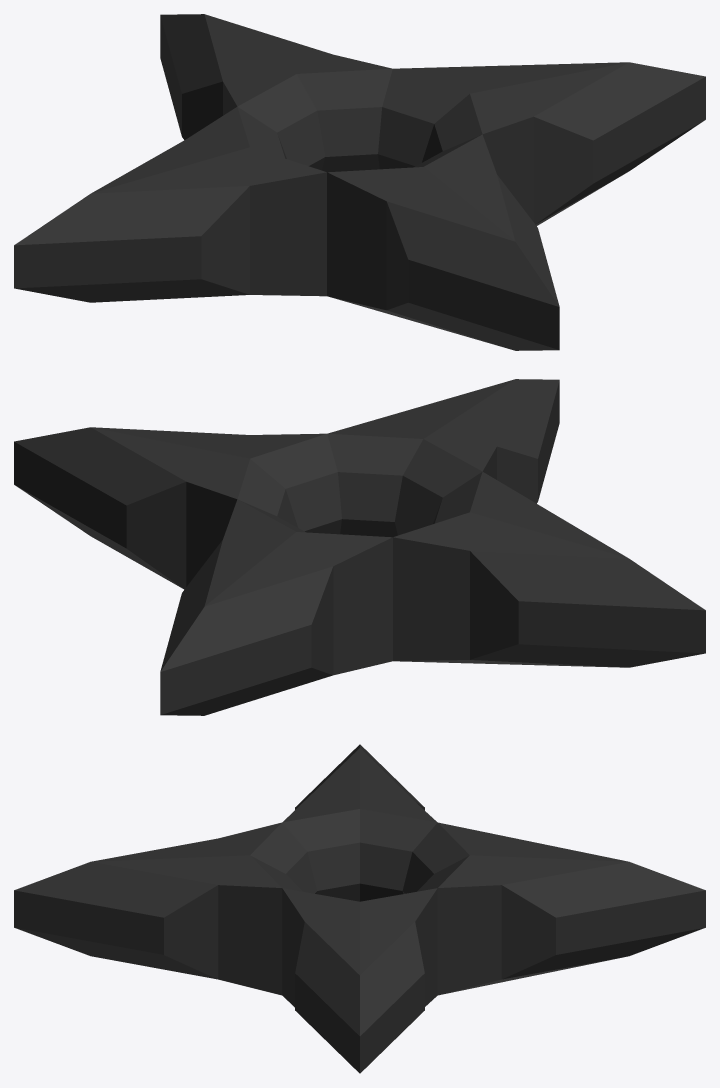
File: shiriken.fbx
3 views of the same model, one above another, from view 1: azimuth 30°, elevation 25°; view 2: azimuth 150°, elevation 25°; view 3: azimuth 270°, elevation 25° (orthographic). The views are drawn at different scales.
Parts seen in each view (by area): view 1: pTorus5; view 2: pTorus5; view 3: pTorus5.
Boxes of the visible parts, bbox=[...] form: pTorus5: bbox=[14, 14, 705, 350]; pTorus5: bbox=[14, 379, 705, 715]; pTorus5: bbox=[14, 744, 705, 1073].
Bounding box in the file's own units: 575 × 98.48 × 575.
